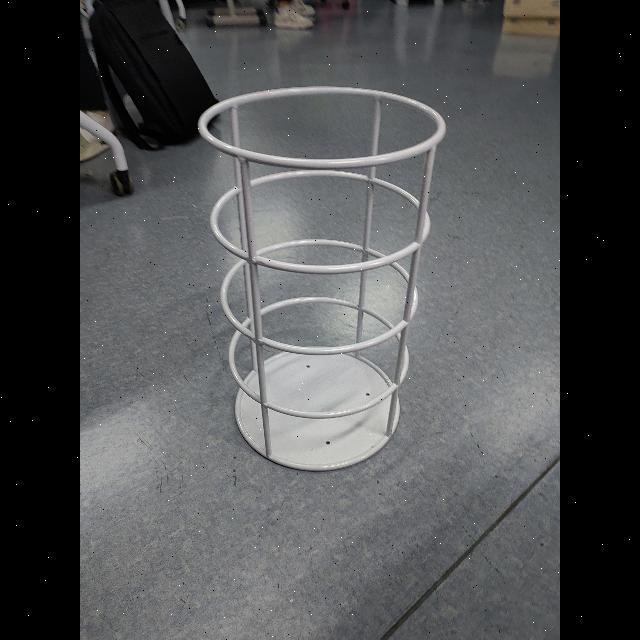S: (188, 82, 450, 478)
